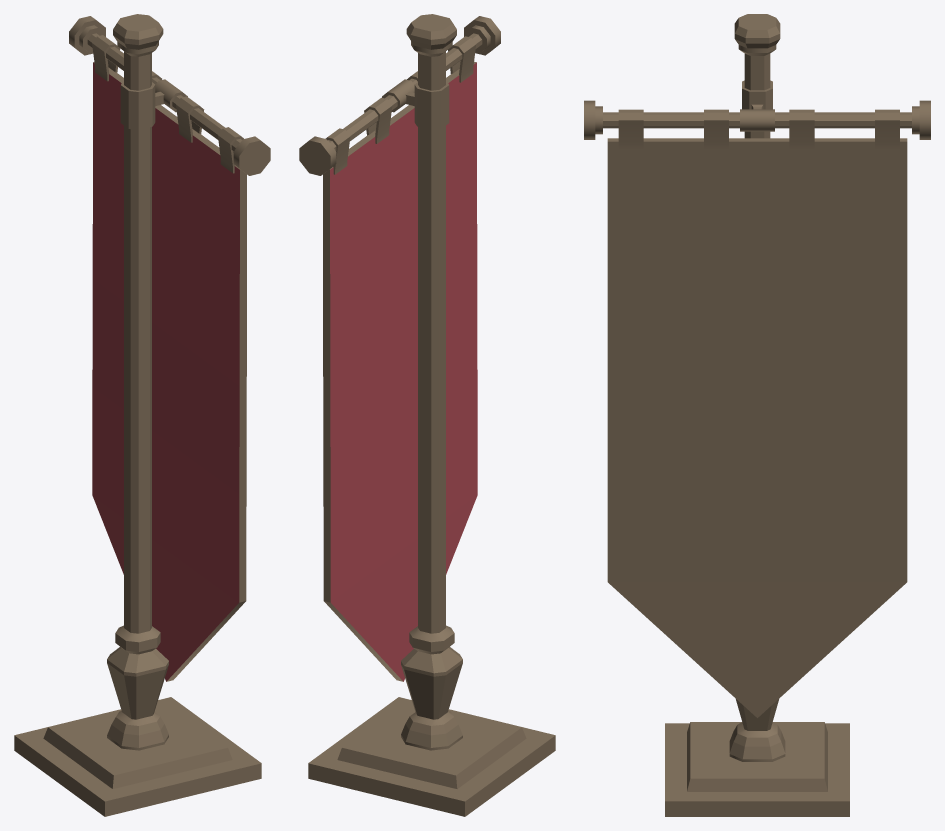
File: bld-banner.glb
3 views of the same model, side by side, from view 1: azimuth 30°, elevation 25°; view 2: azimuth 150°, elevation 25°; view 3: azimuth 270°, elevation 25° (orthographic).
Parts seen in each view (by area): view 1: FlagCloth, FlagPole; view 2: FlagCloth, FlagPole; view 3: FlagPole.
Part boxes in pixels (<box>): FlagCloth: <box>92,62,239,681</box>; FlagPole: <box>14,14,270,816</box>; FlagCloth: <box>330,62,477,681</box>; FlagPole: <box>299,14,555,816</box>; FlagPole: <box>584,14,930,816</box>.
Size of the model in its own units: 0.4388 by 1.98 by 0.8242.
